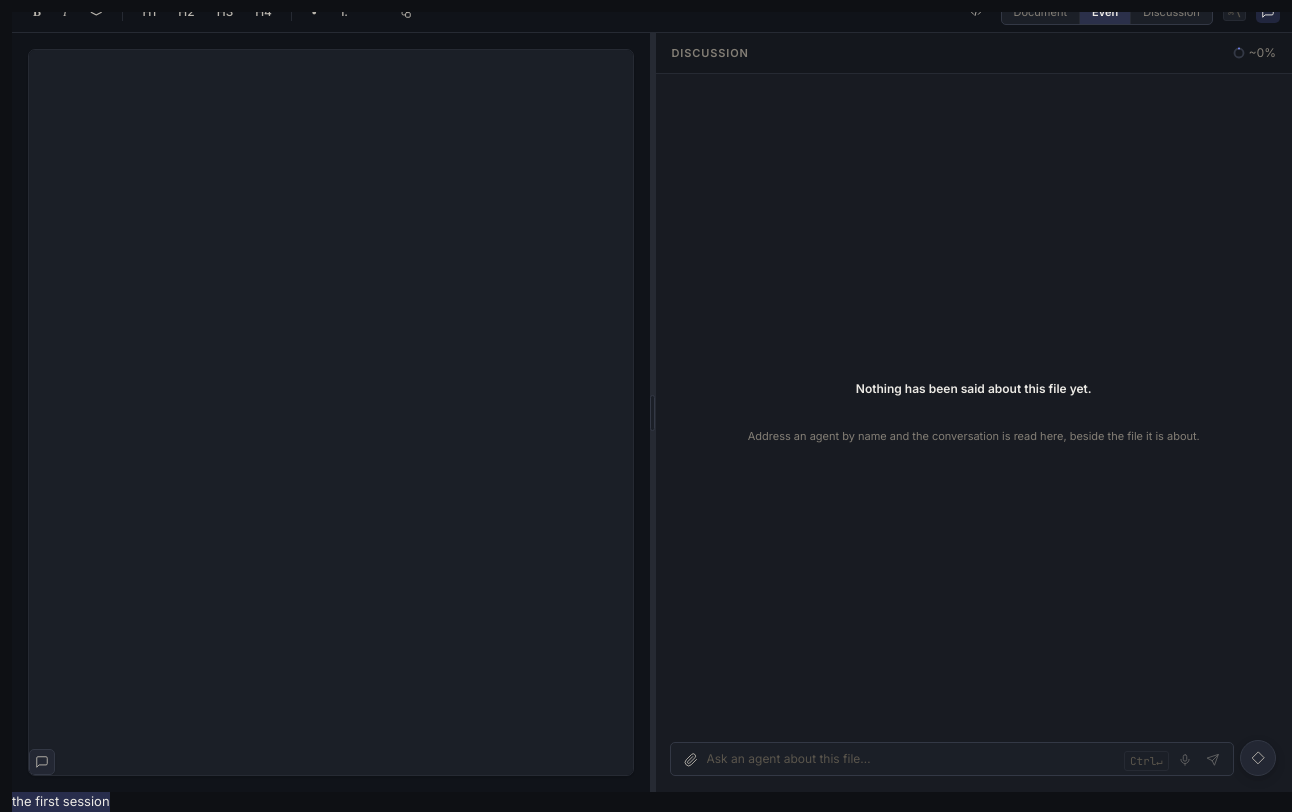
Scenario: CVP-FR-40, CMT-FR-07, DDS-FR-QMBC: opening a fragment discussion from a selection › posts the opening composer on Ctrl+Enter with the fragment target
This screenshot has width=1292, height=812.
(page scrolled)
Click the button named "Comment on selection" at (42,762), box top-left (29, 749), bottom-right (55, 775)
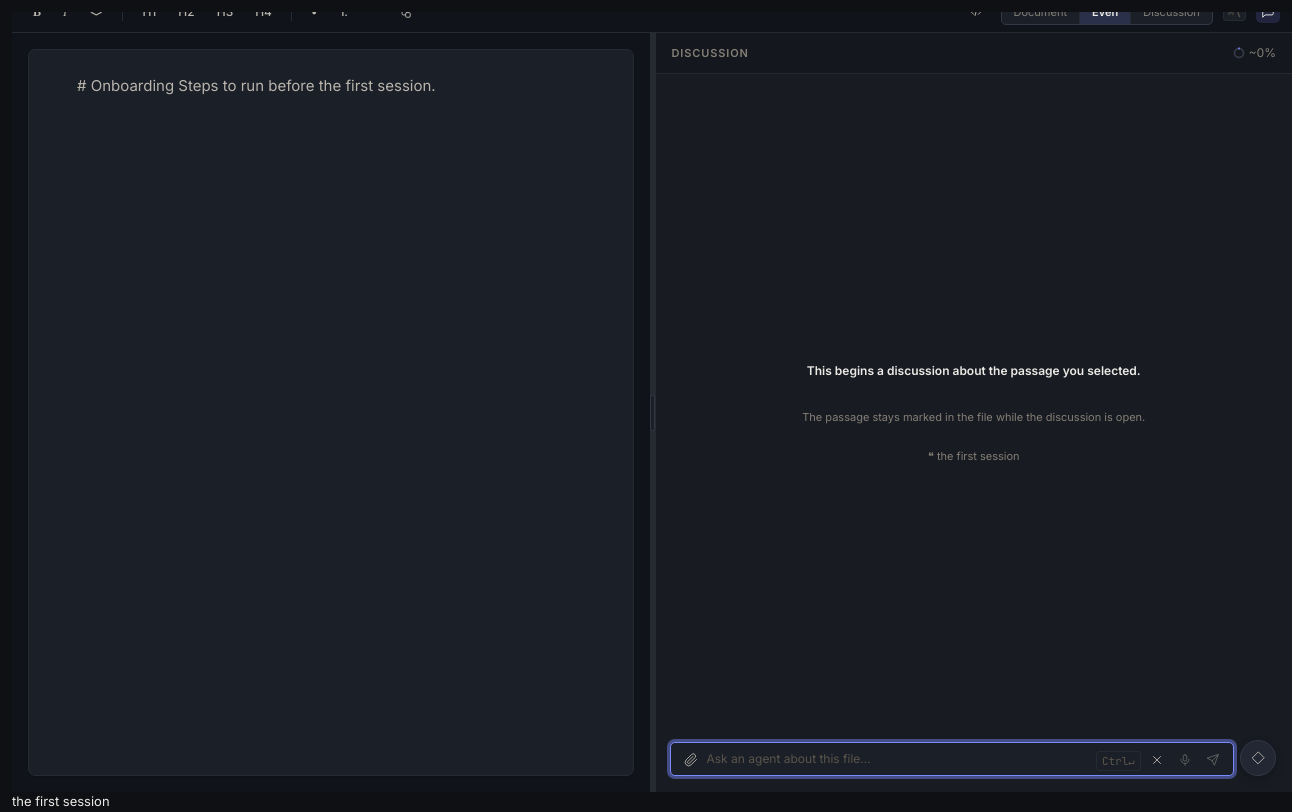
Now the text "❝ the first session" is shown, box top-left (928, 449), bottom-right (1020, 463)
Type "needs tightening" into the text box named "Discuss this file" at (899,759), box top-left (706, 747), bottom-right (1092, 771)
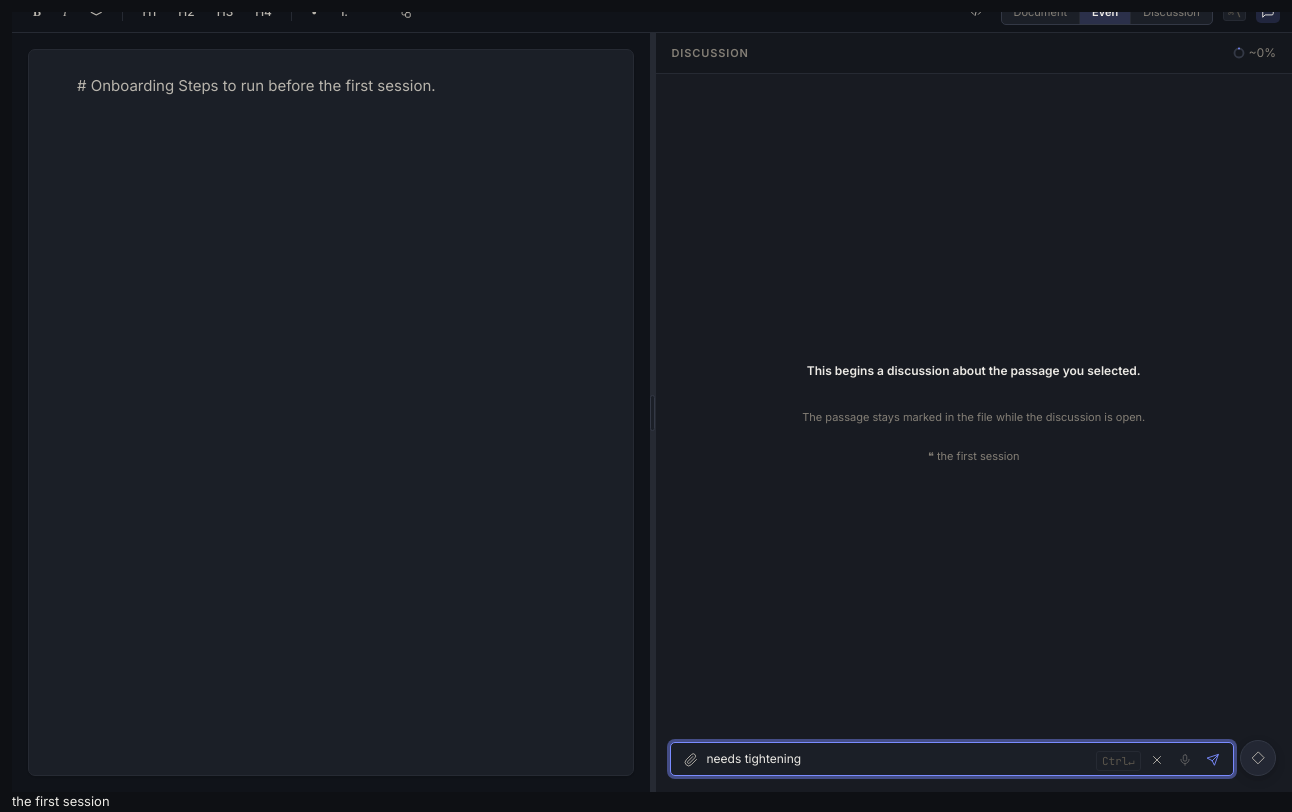
Press Enter in the text box named "Discuss this file", box top-left (706, 747), bottom-right (1092, 771)
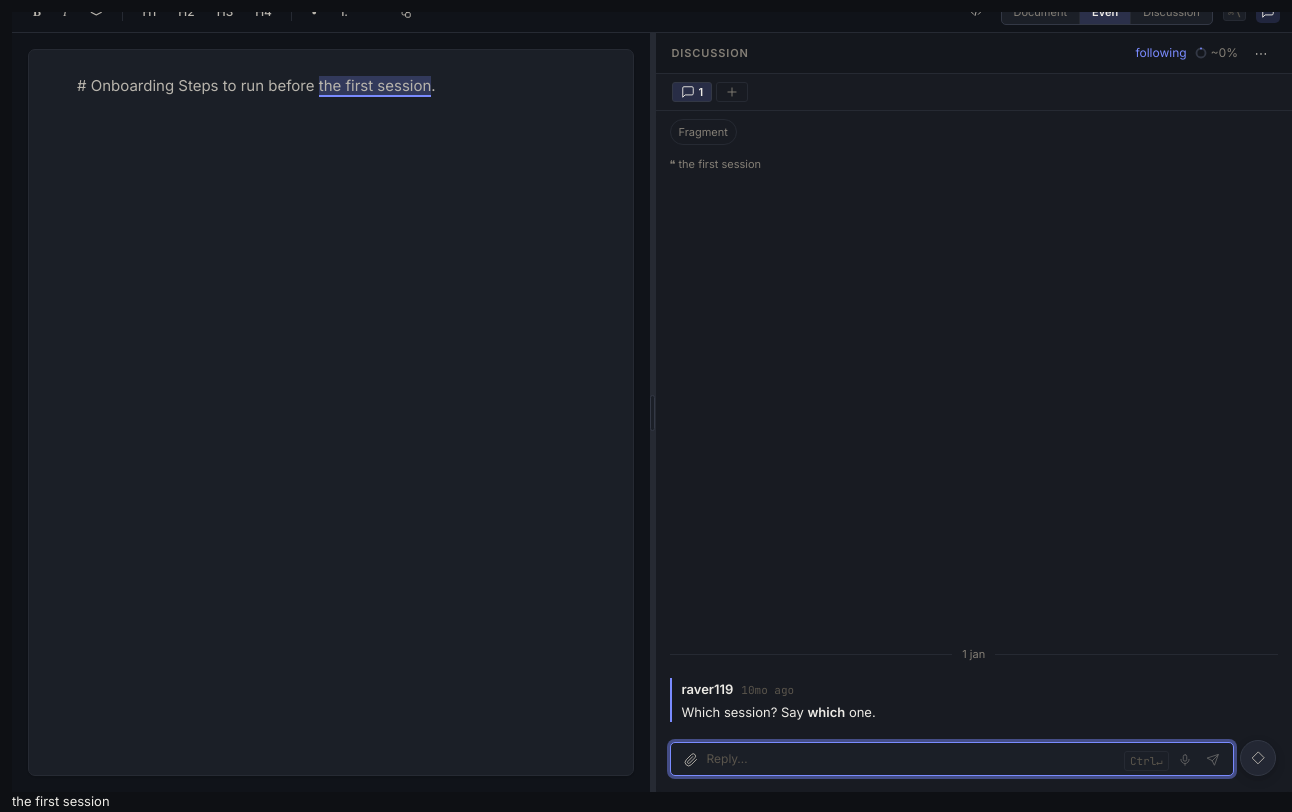
Now the text box labelled "the first session" is shown, box top-left (319, 76), bottom-right (431, 97)
Now the number of elements with test id "comment-thread-t-new" is 1, box top-left (656, 111), bottom-right (1291, 792)
Now the text with test id "discussion-opening-fragment" is gone
